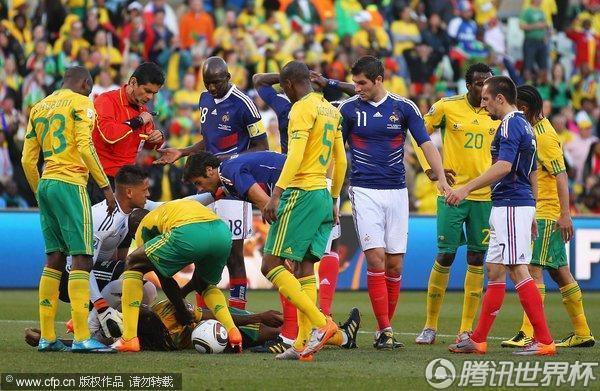10+: (1, 1, 599, 361)
down: (114, 275, 371, 356)
